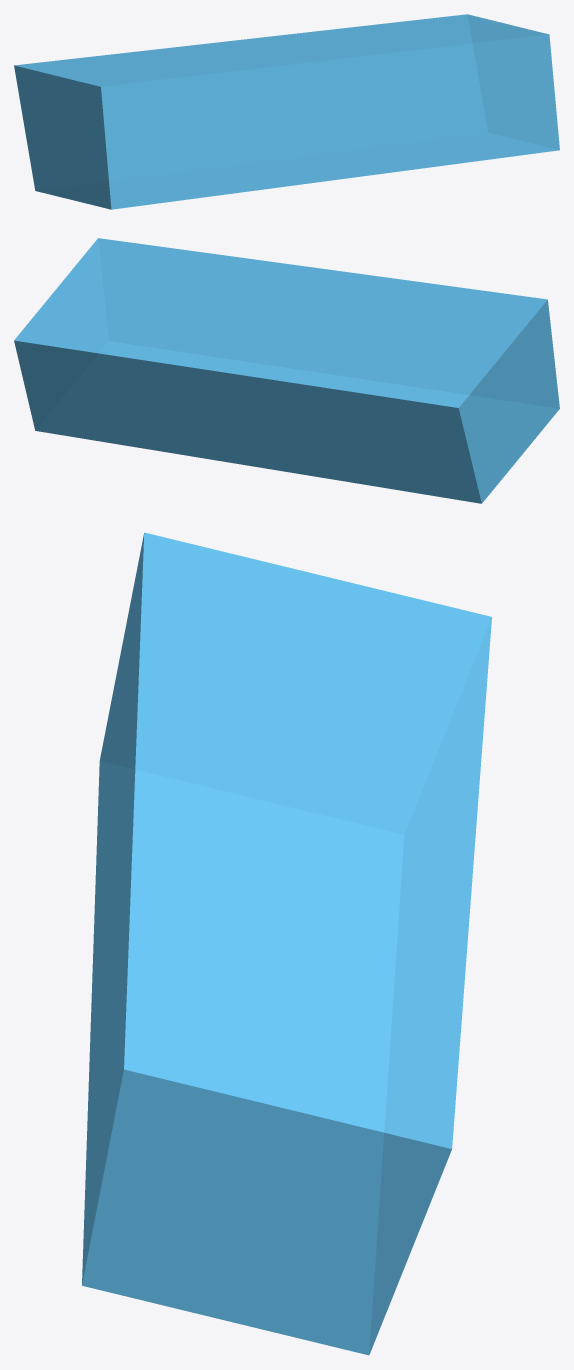
Rendered from Event_421364160_HErechit_42.fbx.
The picture shows the model from 3 angles, top to bottom: view 1: azimuth 30°, elevation 25°; view 2: azimuth 150°, elevation 25°; view 3: azimuth 270°, elevation 25°; orthographic projection. The views are drawn at different scales.
Parts seen in each view (by area): view 1: Model; view 2: Model; view 3: Model.
Boxes of the visible parts, x1=… form: Model: x1=14, y1=14, x2=559, y2=209; Model: x1=14, y1=238, x2=559, y2=503; Model: x1=82, y1=532, x2=491, y2=1355.
Size of the model in its own units: 0.6381 by 0.2679 by 0.2552.
